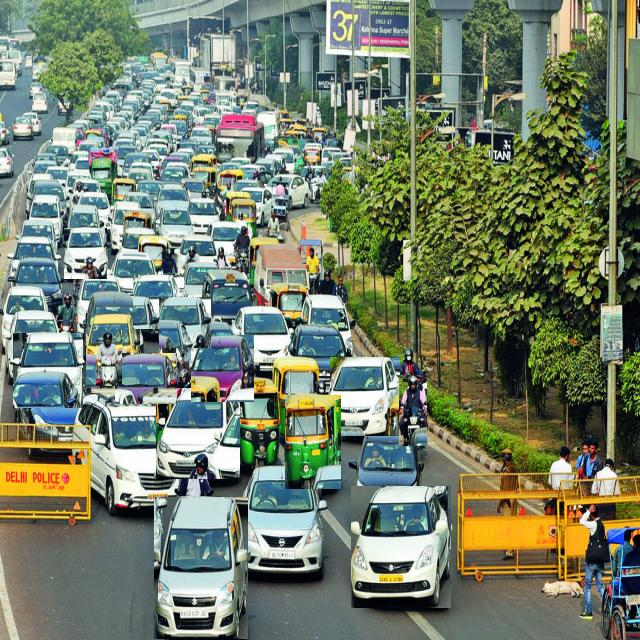autorickshaw: (285, 395, 341, 489), (225, 378, 280, 467), (272, 356, 319, 438), (270, 282, 308, 329)
bus: (215, 113, 265, 162)
car: (75, 389, 185, 513), (155, 498, 248, 639), (351, 486, 451, 608), (236, 467, 326, 578), (156, 389, 240, 479), (349, 429, 424, 510), (330, 358, 400, 436), (14, 333, 83, 408), (86, 314, 140, 393), (191, 336, 254, 402), (231, 307, 290, 377), (289, 322, 346, 391), (5, 311, 58, 381), (16, 373, 85, 423), (0, 287, 48, 352), (9, 258, 65, 313), (116, 354, 177, 404), (301, 296, 355, 352), (134, 275, 184, 329), (202, 269, 252, 323), (159, 298, 211, 348), (76, 273, 118, 334), (65, 229, 107, 279)
motorcycle: (400, 375, 427, 446), (96, 331, 122, 386)
